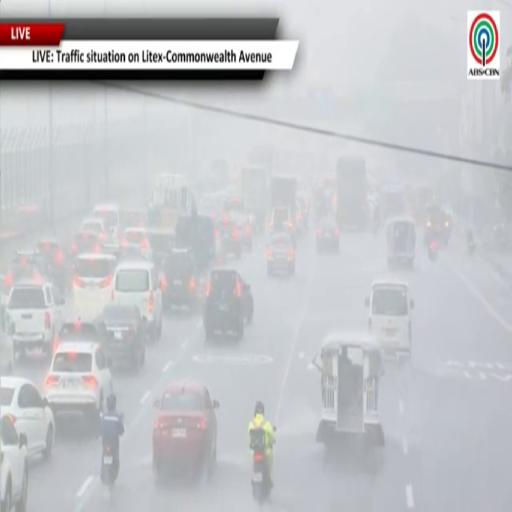car: (153, 380, 219, 482), (44, 343, 112, 428), (0, 377, 55, 458), (7, 282, 65, 357), (112, 261, 163, 340), (203, 269, 253, 341), (366, 280, 414, 354), (98, 304, 147, 371), (72, 253, 116, 321), (0, 415, 28, 511), (161, 249, 200, 309), (176, 215, 215, 269), (36, 238, 69, 293), (5, 250, 44, 289), (267, 233, 295, 276), (424, 205, 451, 246), (56, 319, 100, 344), (93, 204, 121, 243), (148, 228, 175, 268), (121, 228, 152, 260), (219, 216, 242, 259), (0, 306, 14, 375), (270, 206, 296, 243), (71, 231, 102, 258), (316, 218, 339, 251), (81, 217, 109, 243), (234, 214, 253, 250), (123, 210, 148, 228), (298, 192, 309, 230), (295, 200, 306, 234), (224, 196, 245, 213)
motorcycle: (251, 429, 272, 505), (101, 441, 119, 488), (101, 444, 118, 487), (428, 240, 438, 261), (467, 232, 475, 255)
truck: (336, 156, 368, 230), (270, 175, 297, 244), (242, 166, 267, 232), (271, 176, 297, 218)
